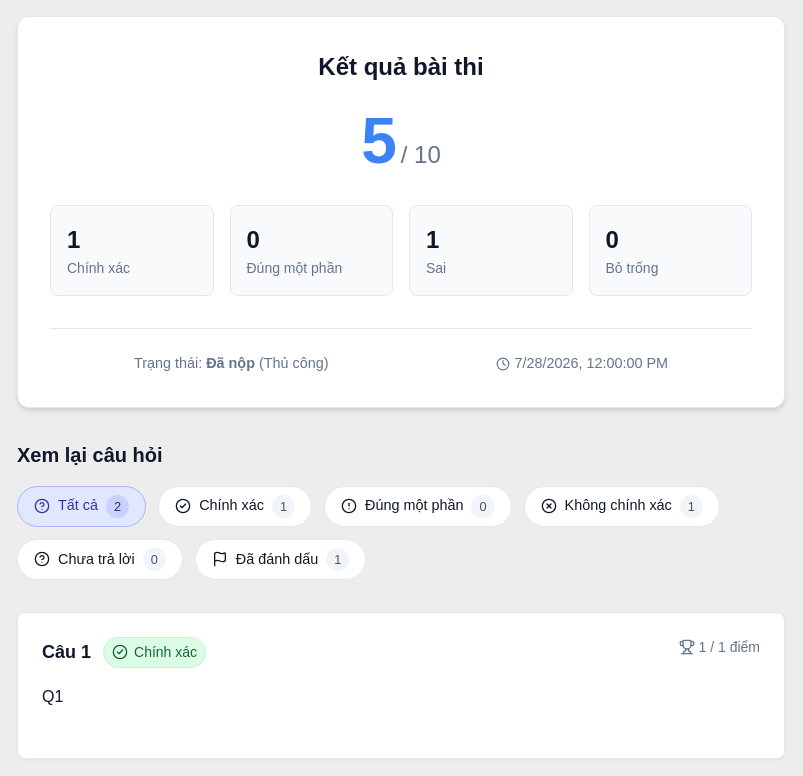
Test: ExamResultReview › filters questions based on filter selection
The image size is (803, 776).
Check: the text "Q1" is shown, box [42,688,63,705]
// Click "Chính xác"
Step 1. Click the button "Chính xác 1" → (235, 506), box [158,486,312,527]
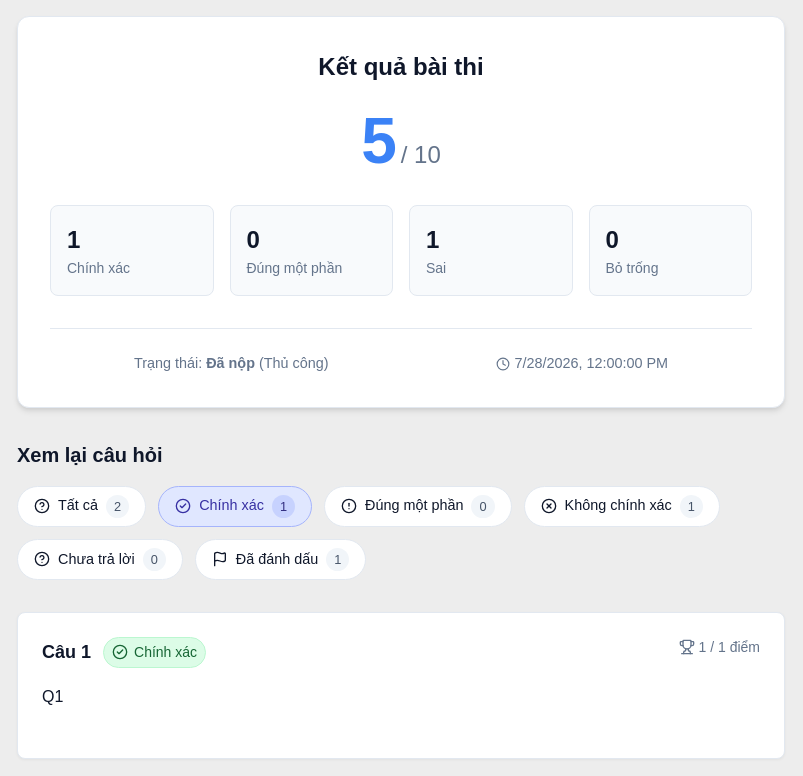
Check: the text "Q1" is shown, box [42,688,63,705]
Check: the text "Q2" is not shown
// Click "Đã đánh dấu"
Step 2. Click the button "Đã đánh dấu 1" → (281, 559), box [195,539,366,580]
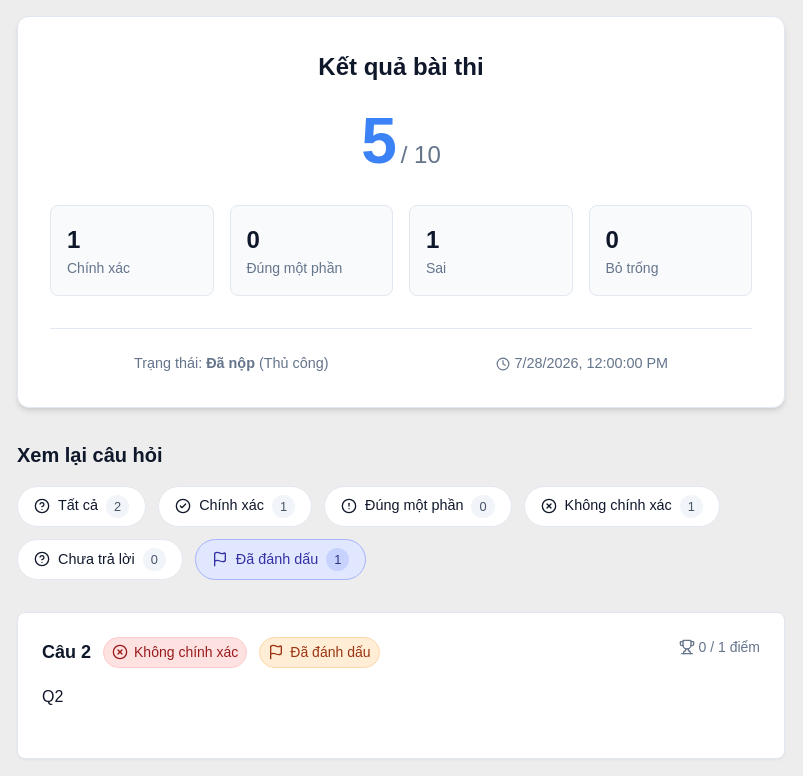
Check: the text "Q1" is gone
Check: the text "Q2" is shown, box [42,688,63,705]
